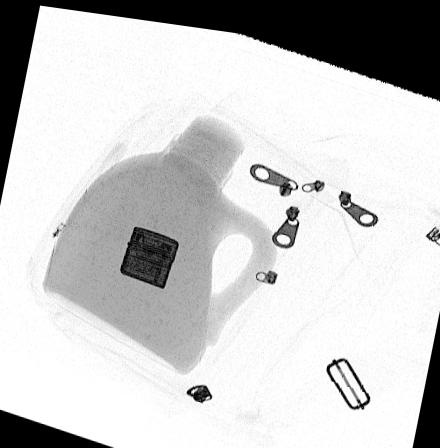Lighter: (118, 221, 179, 285)
